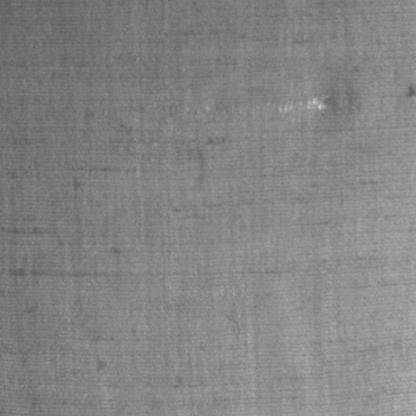thread error: (174, 86, 343, 125)
